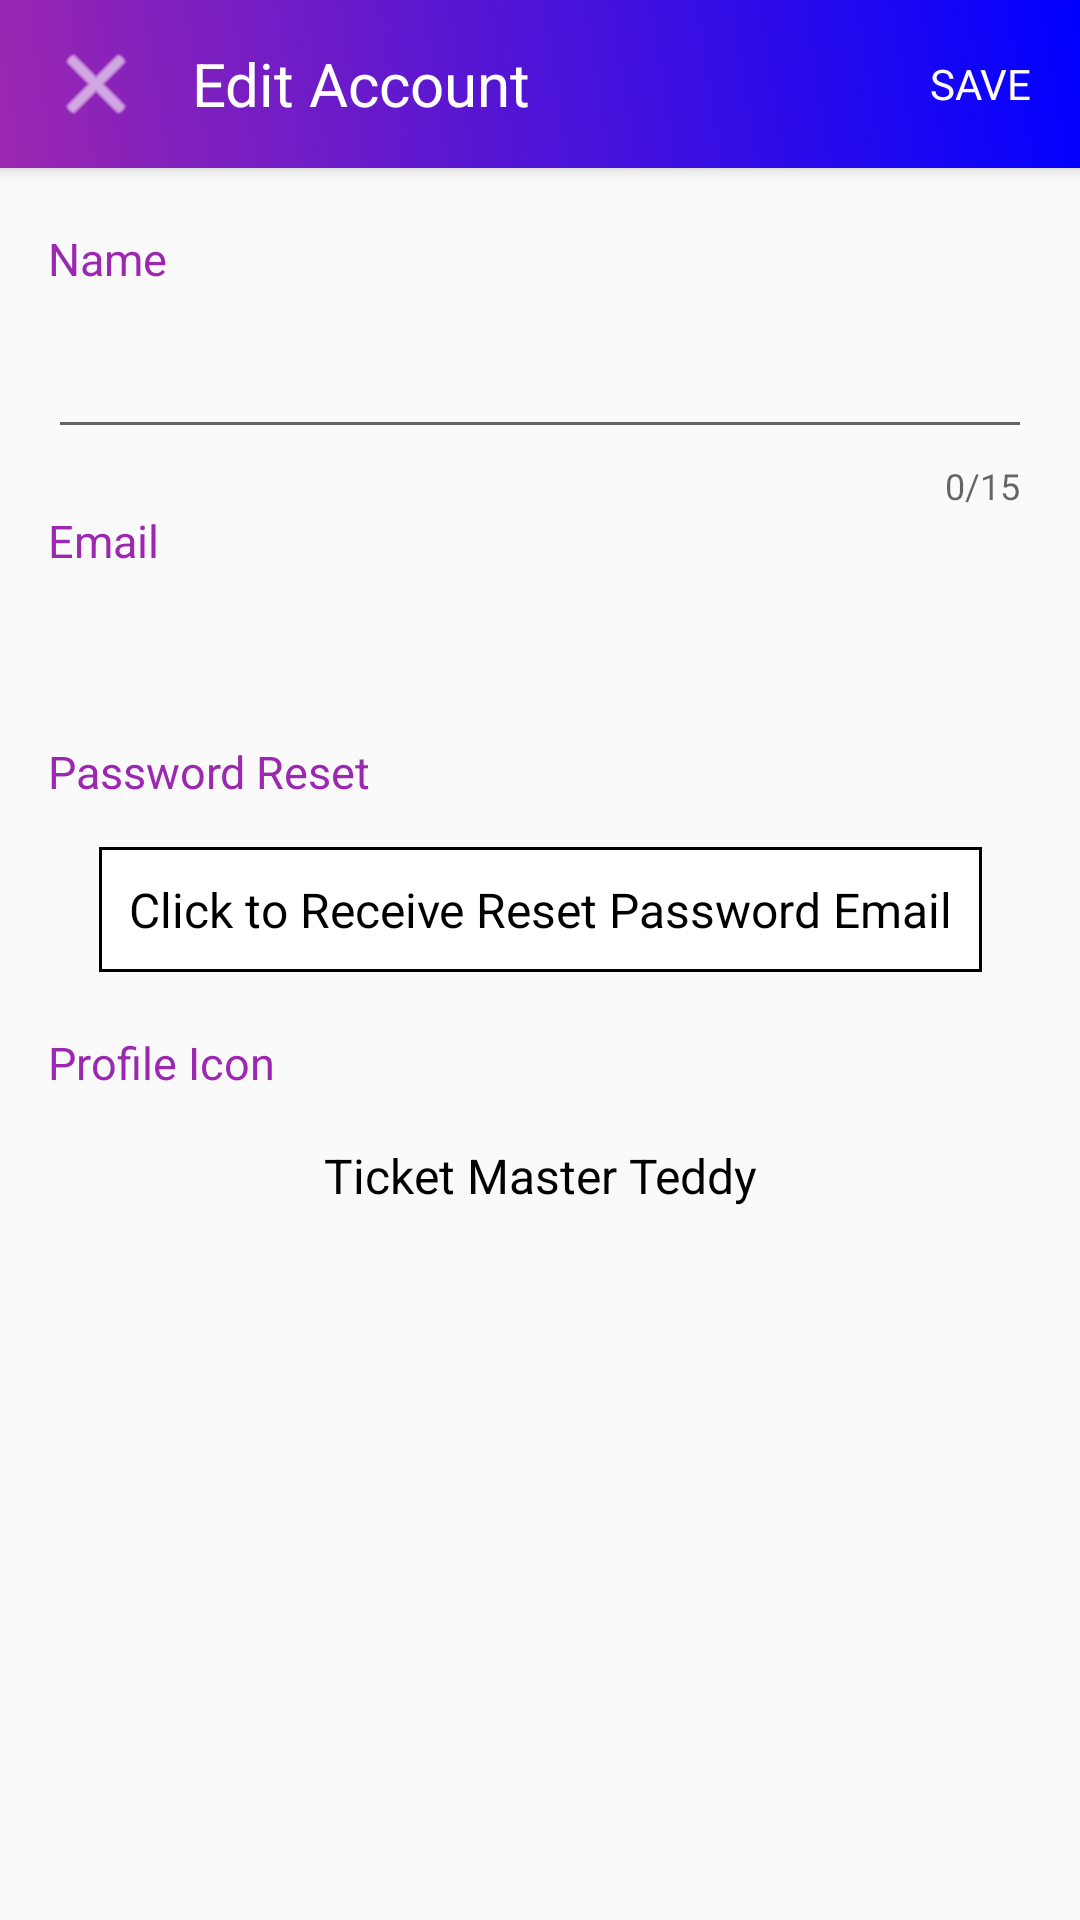

Icon bounding boxes for this 1080px x 1920px phone screenshot, format (x1, y1, x2, y2):
close clear cancel: (66, 54, 126, 114)
